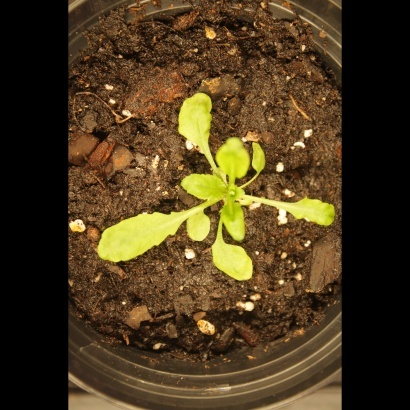leaf: (91, 208, 185, 267), (172, 89, 217, 150), (211, 234, 261, 285), (281, 189, 340, 231), (178, 171, 230, 207), (215, 135, 253, 180), (216, 198, 250, 245), (248, 136, 280, 177), (186, 209, 214, 248)
